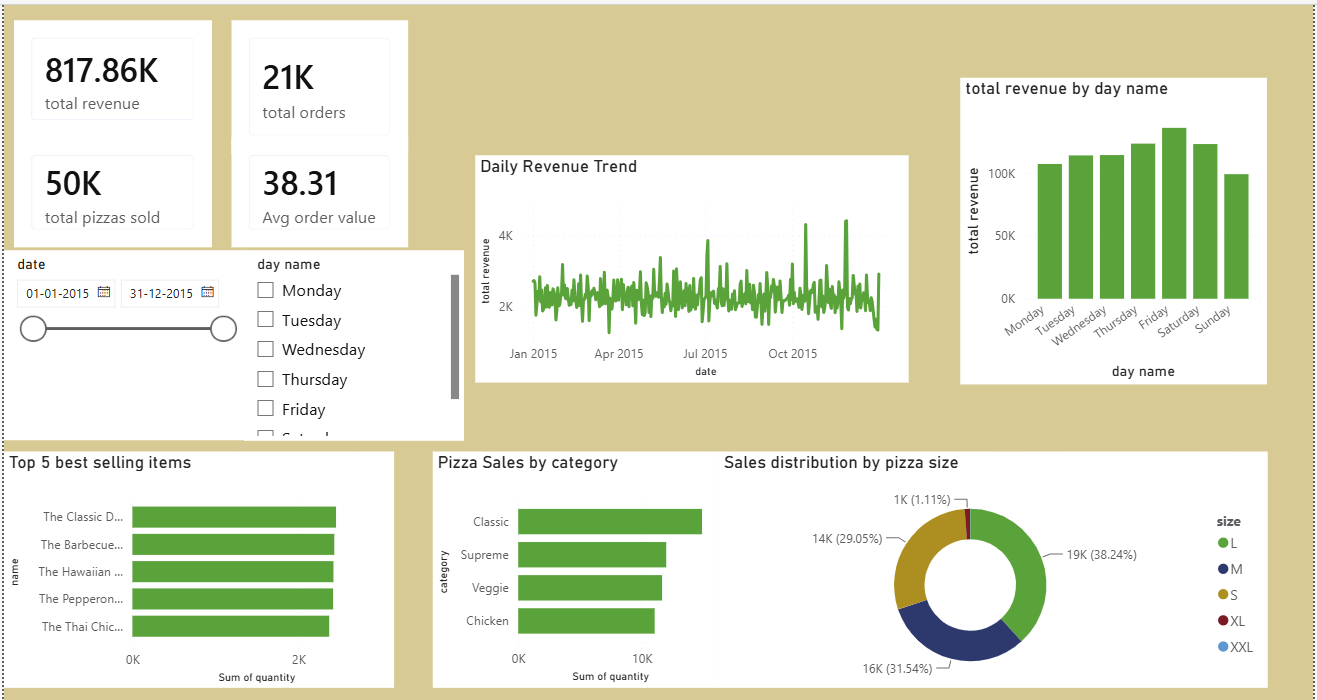

What the dashboard file says about the page in this screenshot:
{"tool":"powerbi","page":{"name":"Page 1","canvas":[1280,720],"ordinal":0},"visuals":[{"type":"cardVisual","fields":{"Data":["Folder source.total revenue"]},"box":[9.6,54.9,193.5,115.3],"z":0},{"type":"cardVisual","fields":{"Data":["Folder source.total pizzas sold"]},"box":[9.6,170.2,193.5,107],"z":1},{"type":"cardVisual","fields":{"Data":["Folder source.total orders"]},"box":[222.3,54.9,172.9,130.4],"z":2},{"type":"cardVisual","fields":{"Data":["Folder source.Avg order value"]},"box":[222.3,170.2,172.9,107],"z":3},{"type":"lineChart","title":"Daily Revenue Trend","fields":{"Category":["orders.date"],"Y":["Folder source.total revenue"]},"box":[461.1,186.6,424,222.3],"z":4},{"type":"clusteredBarChart","title":"Top 5 best selling items","fields":{"Category":["pizza names.name"],"Y":["Sum(order_details.quantity)"]},"box":[0,477.1,381.4,231.4],"z":5},{"type":"clusteredBarChart","title":"Pizza Sales by category","fields":{"Category":["pizza names.category"],"Y":["Sum(order_details.quantity)"]},"box":[419,477,280,231],"z":6},{"type":"donutChart","title":"Sales distribution by pizza size","fields":{"Category":["pizzas.size"],"Y":["Sum(order_details.quantity)"]},"box":[699,477,537,231],"z":7},{"type":"clusteredColumnChart","fields":{"Category":["orders.day name"],"Y":["Folder source.total revenue"]},"box":[935.7,111.4,300,300],"z":8},{"type":"slicer","fields":{"Values":["orders.date"]},"box":[0,279.9,235.7,185.7],"z":9},{"type":"slicer","fields":{"Values":["orders.day name"]},"box":[234.6,279.9,215.4,186.6],"z":10}]}

Visuals, with their boxes on the page's 1280x720 design canvas (x1, y1, x2, y2). These are canvas units, not pixel positions in the 1317x700 screenshot, which may show the page scaled, cropped or inside an application window:
cardVisual - Folder source.total revenue: [x1=10, y1=55, x2=203, y2=170]
cardVisual - Folder source.total pizzas sold: [x1=10, y1=170, x2=203, y2=277]
cardVisual - Folder source.total orders: [x1=222, y1=55, x2=395, y2=185]
cardVisual - Folder source.Avg order value: [x1=222, y1=170, x2=395, y2=277]
"Daily Revenue Trend" lineChart: [x1=461, y1=187, x2=885, y2=409]
"Top 5 best selling items" clusteredBarChart: [x1=0, y1=477, x2=381, y2=708]
"Pizza Sales by category" clusteredBarChart: [x1=419, y1=477, x2=699, y2=708]
"Sales distribution by pizza size" donutChart: [x1=699, y1=477, x2=1236, y2=708]
clusteredColumnChart - orders.day name x Folder source.total revenue: [x1=936, y1=111, x2=1236, y2=411]
slicer - orders.date: [x1=0, y1=280, x2=236, y2=466]
slicer - orders.day name: [x1=235, y1=280, x2=450, y2=466]
